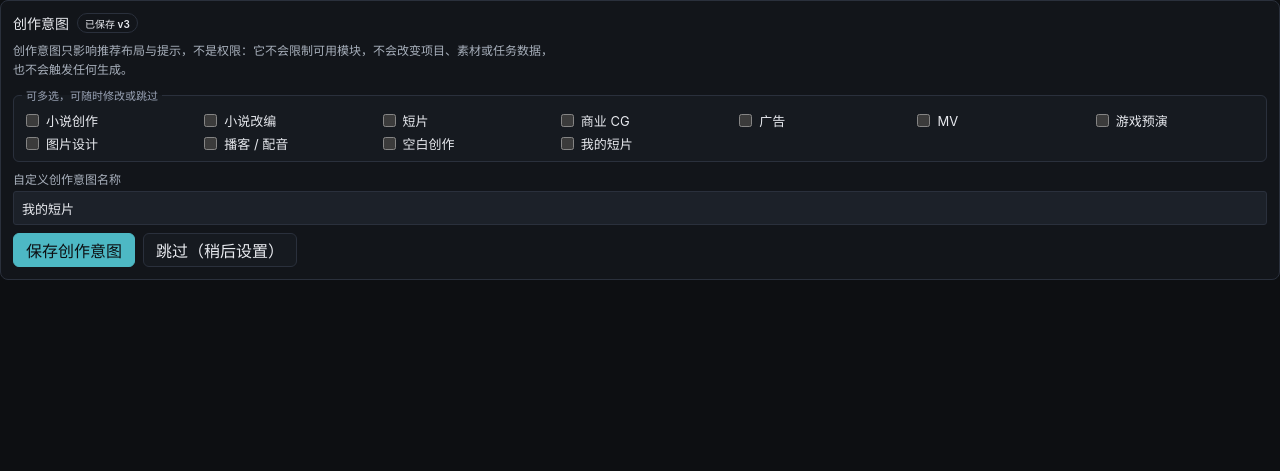
Test: creative intent picker › keeps the local selection when the owner answers with a version conflict
Expected: the text "已保存 v3" is shown, 77,13 -> 138,33
Step 1. Click the checkbox labelled "图片设计" → x=32, y=144, box 26,137 -> 39,150
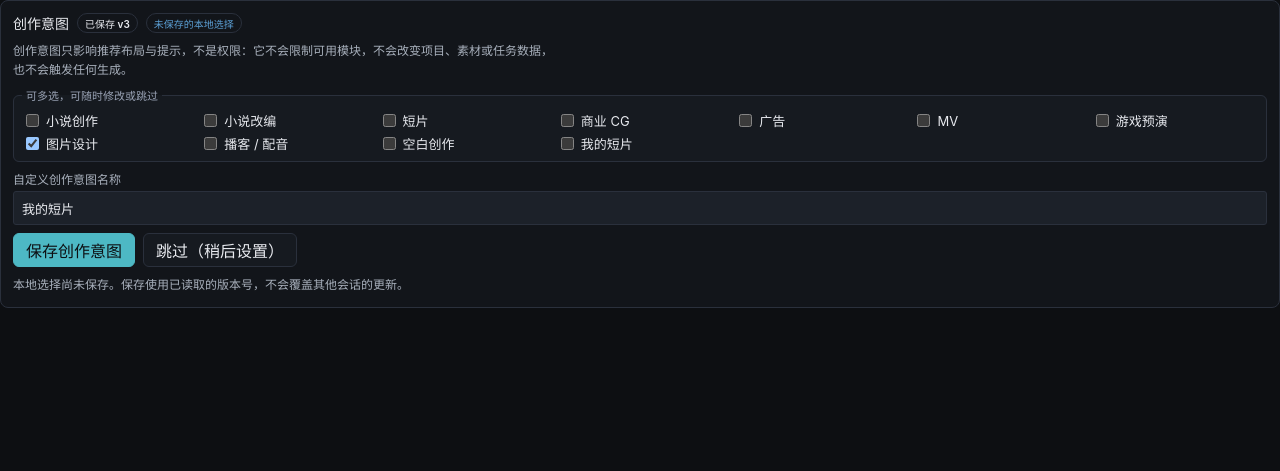
Step 2. Click the button "保存创作意图" → x=74, y=250, box 13,233 -> 135,267
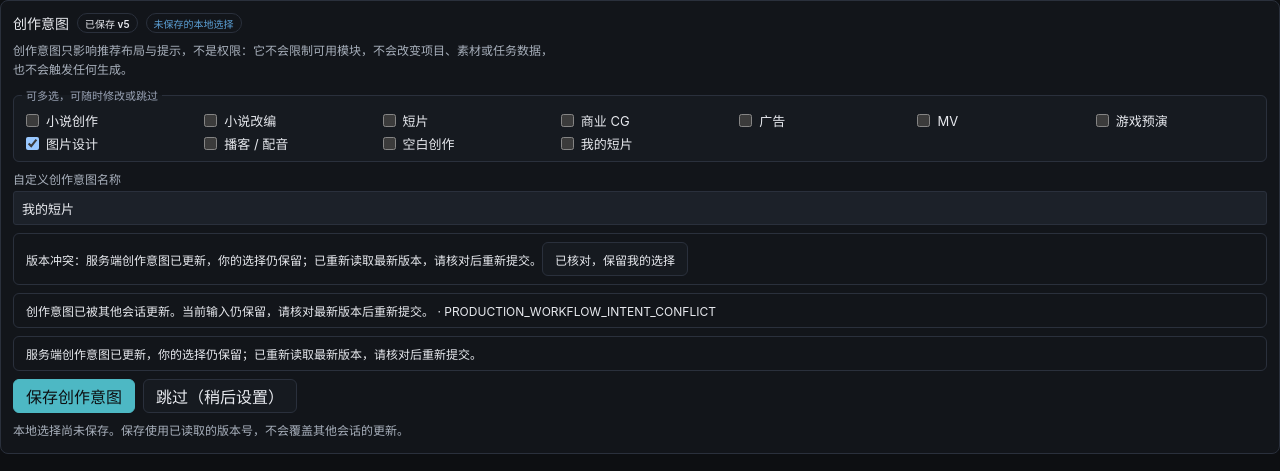
Now the checkbox labelled "图片设计" is checked, box 26,137 -> 39,150
Step 3. Click the button "已核对，保留我的选择" → x=615, y=259, box 542,242 -> 688,276
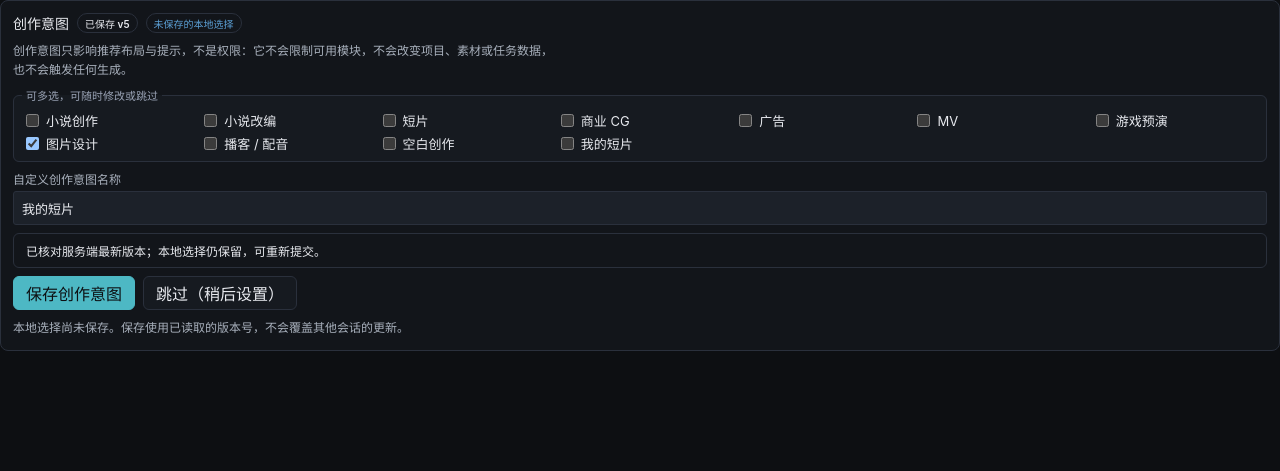
Now the button "保存创作意图" is enabled
Now the message "版本冲突：服务端创作意图已更新，你的选择仍保留；已重新读取最新版本，请核对后重新提交。 已核对，保留我的选择" no longer shows "版本冲突"
Now the text "已核对服务端最新版本；本地选择仍保留，可重新提交。" is shown, box 13,233 -> 1267,268
# After re-reading version 5 the draft is resubmitted against the served version.
Step 4. Click the button "保存创作意图" → x=74, y=293, box 13,276 -> 135,310
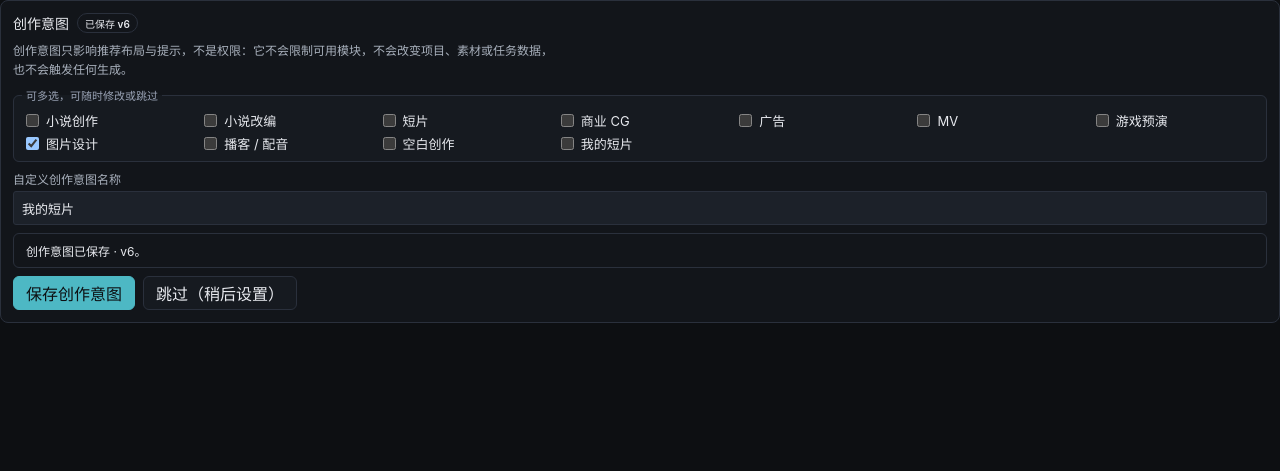
Now the text "已保存 v6" is shown, box 77,13 -> 138,33
